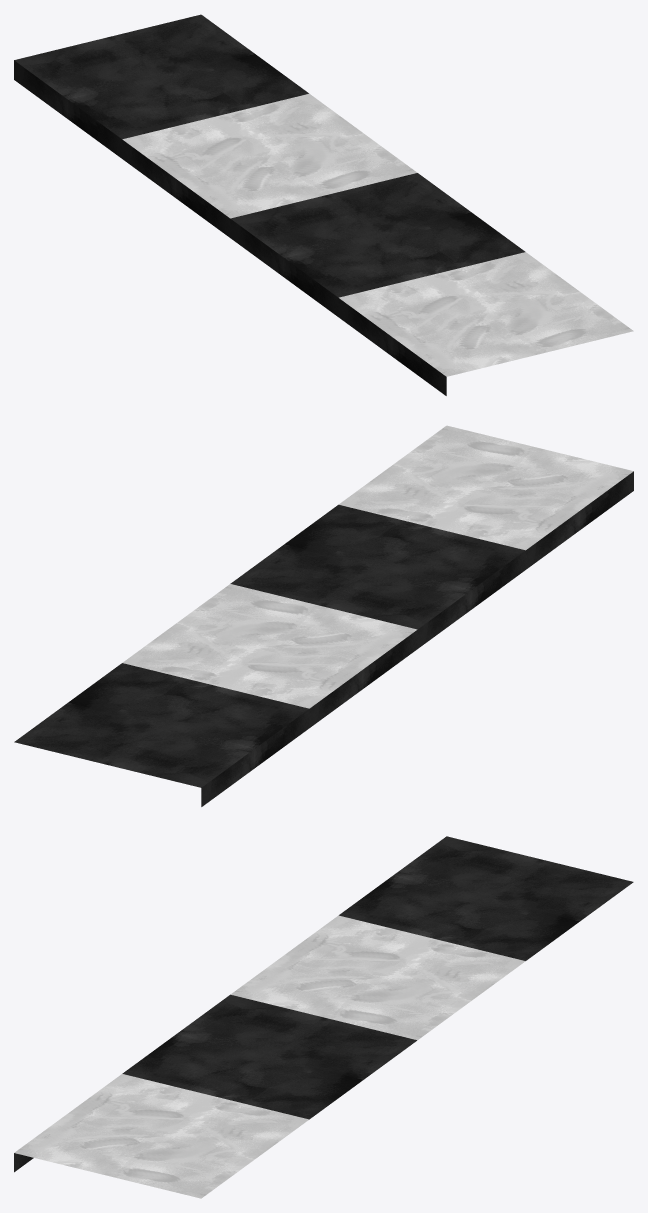
File: Sidewalk_Section_01.dae
The picture shows the model from 3 angles, top to bottom: view 1: azimuth 30°, elevation 25°; view 2: azimuth 150°, elevation 25°; view 3: azimuth 330°, elevation 25°; orthographic projection.
Visible parts, largest first — view 1: pPlane70; view 2: pPlane70; view 3: pPlane70.
Boxes of the visible parts, x1=… form: pPlane70: x1=14, y1=14, x2=633, y2=395; pPlane70: x1=14, y1=425, x2=633, y2=806; pPlane70: x1=14, y1=836, x2=633, y2=1198.
Size of the model in its own units: 2 by 0.2 by 8.
